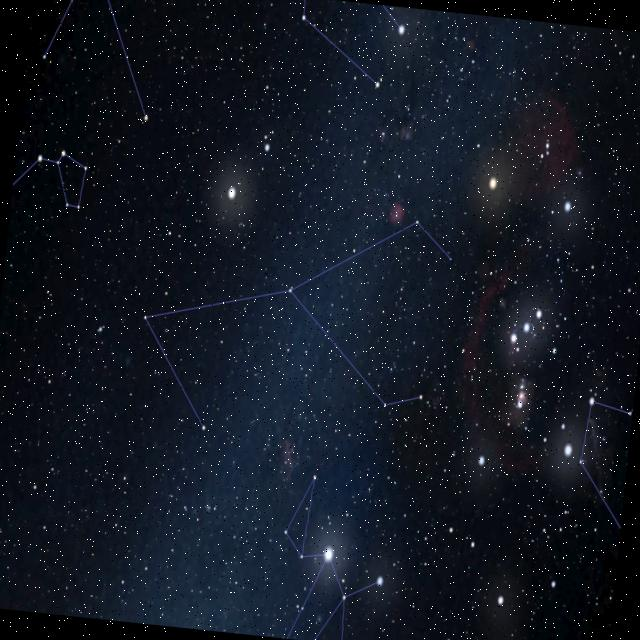Monoceros: (123, 183, 468, 462)
